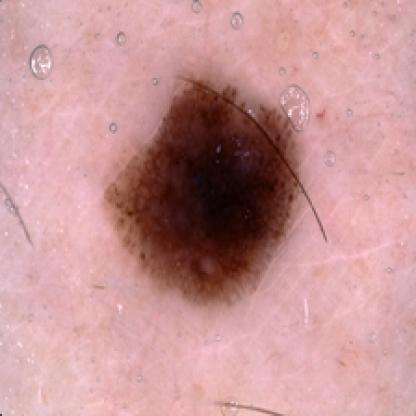Skin_Cancer-Malignant: (104, 76, 308, 310)
